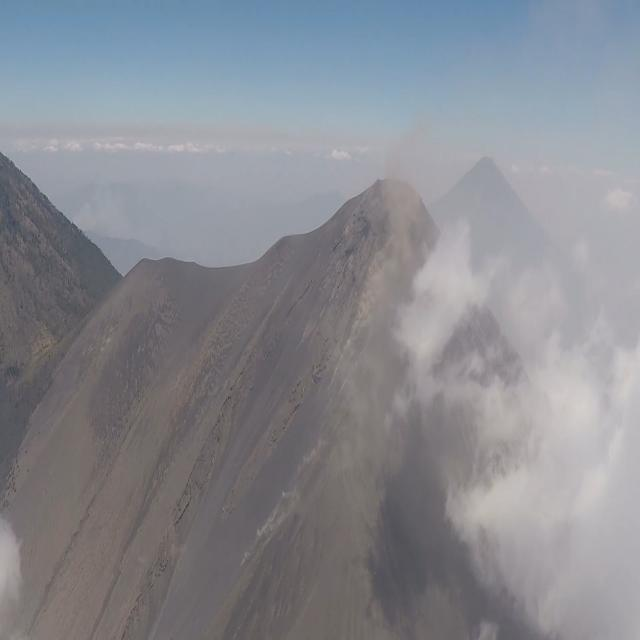Summit: (252, 160, 498, 318)
